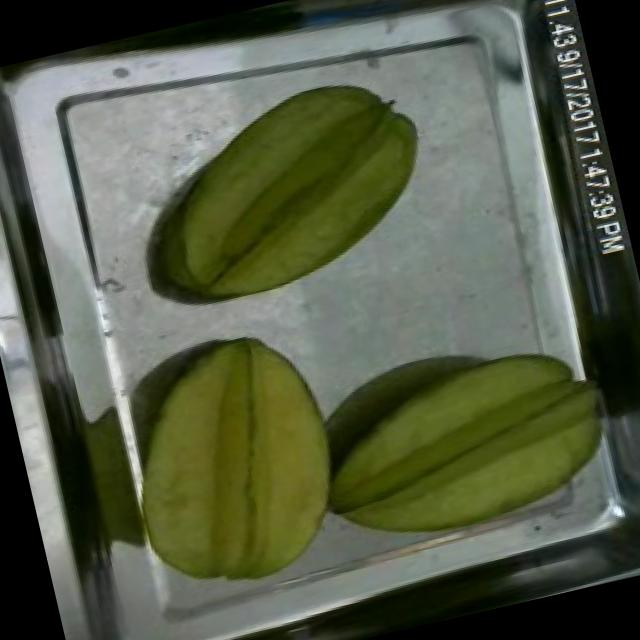fruit: (94, 306, 369, 615), (137, 52, 456, 318), (292, 324, 634, 572)
